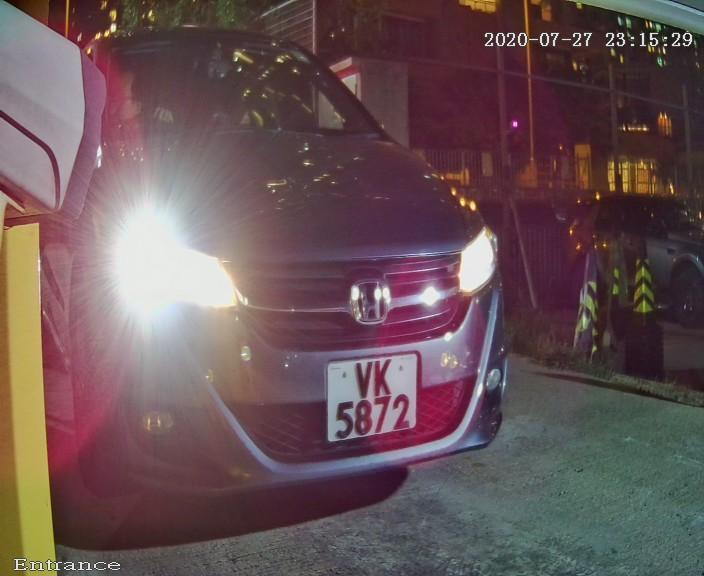privatecar: (54, 3, 563, 556)
